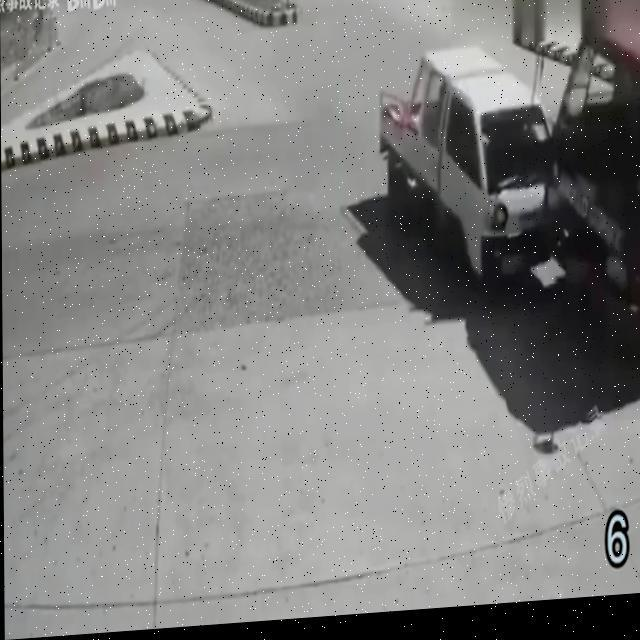multiple_accident: (320, 20, 640, 353)
